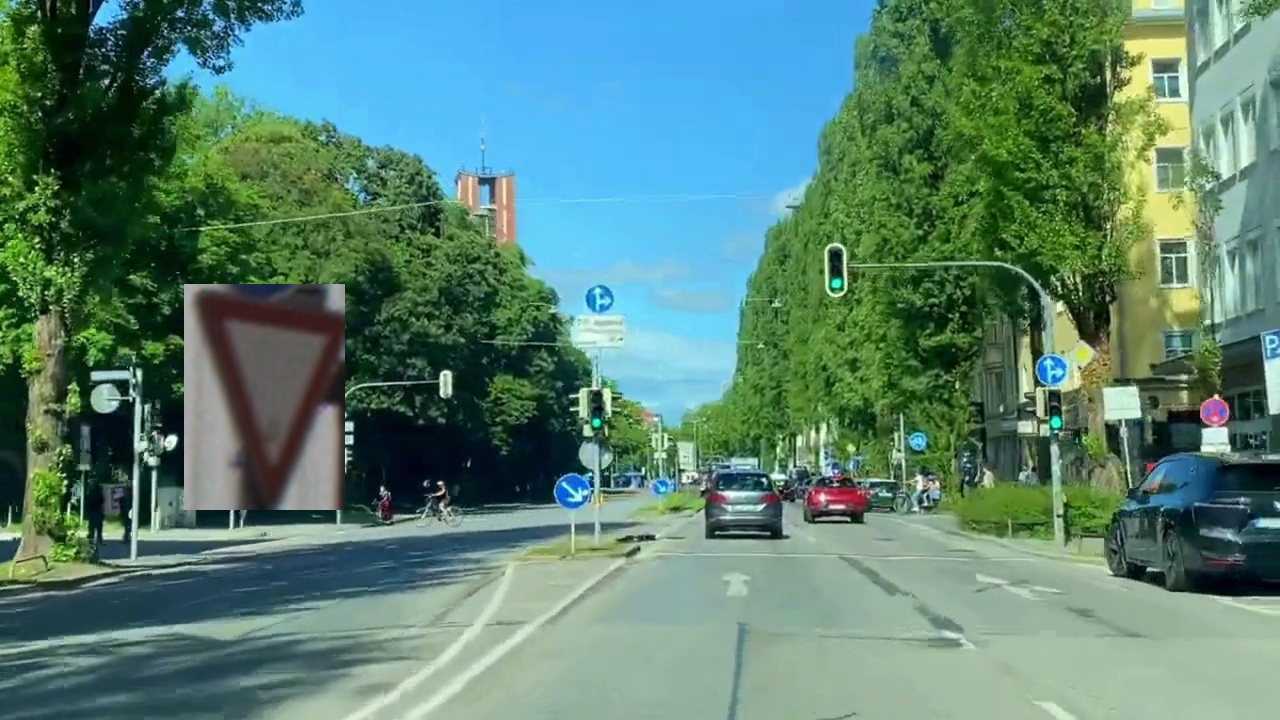Yield: (184, 284, 345, 510)
